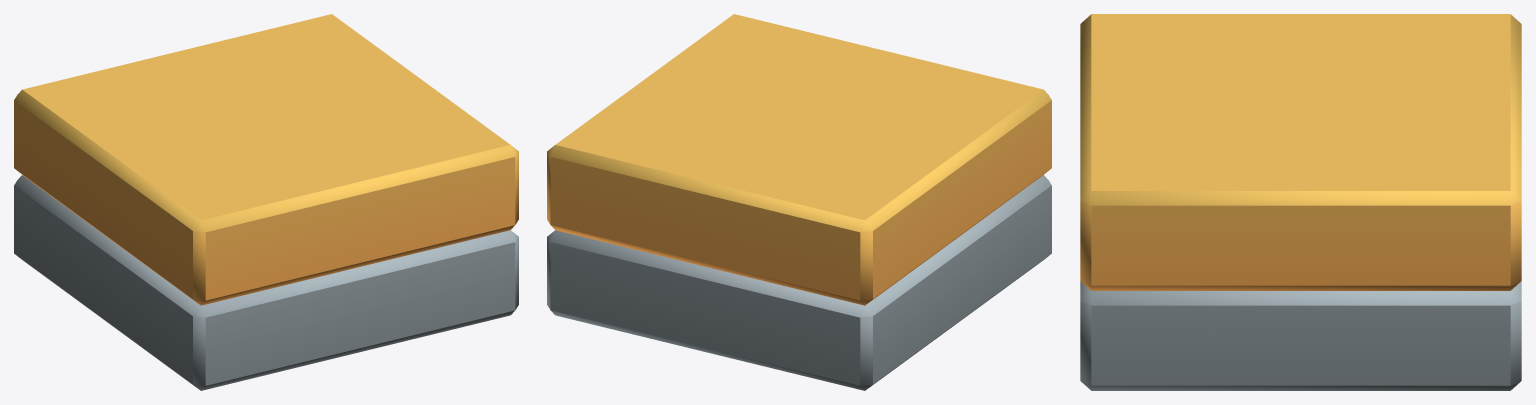
The model's file is platform_2x2x1_yellow.glb.
3 renders of one model, left to right at view 1: azimuth 30°, elevation 25°; view 2: azimuth 150°, elevation 25°; view 3: azimuth 270°, elevation 25°, orthographic. The views are drawn at different scales.
Visible parts, largest first — view 1: platform_2x2x1_yellow; view 2: platform_2x2x1_yellow; view 3: platform_2x2x1_yellow.
Part boxes in pixels (x1=…): platform_2x2x1_yellow: x1=14, y1=14, x2=518, y2=390; platform_2x2x1_yellow: x1=547, y1=14, x2=1051, y2=390; platform_2x2x1_yellow: x1=1080, y1=14, x2=1521, y2=390.
Size of the model in its own units: 2 by 1 by 2.
1 material, 1 textured.
